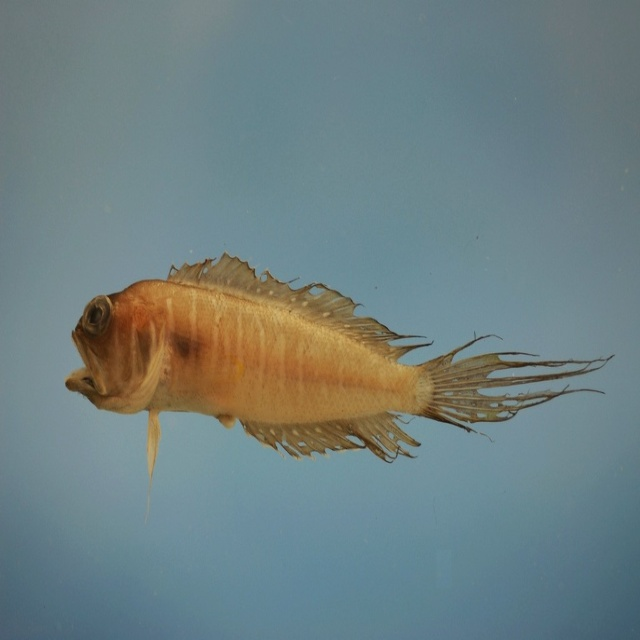Fish: (69, 250, 615, 512)
